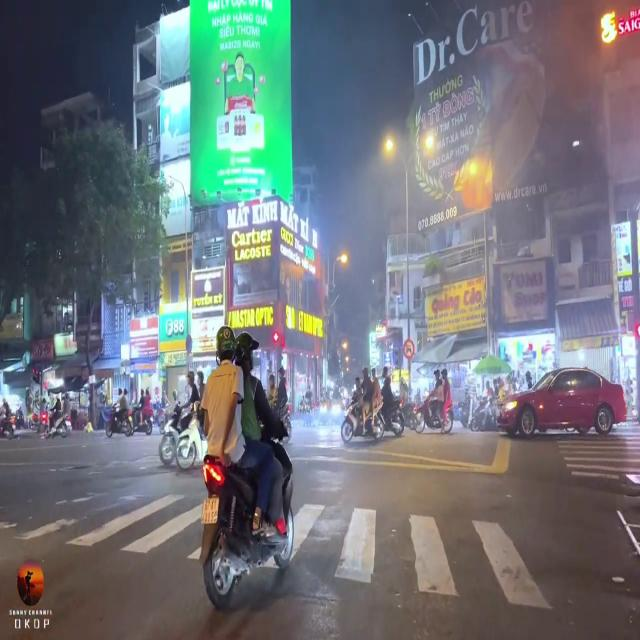bien_trang: (201, 496, 219, 525)
